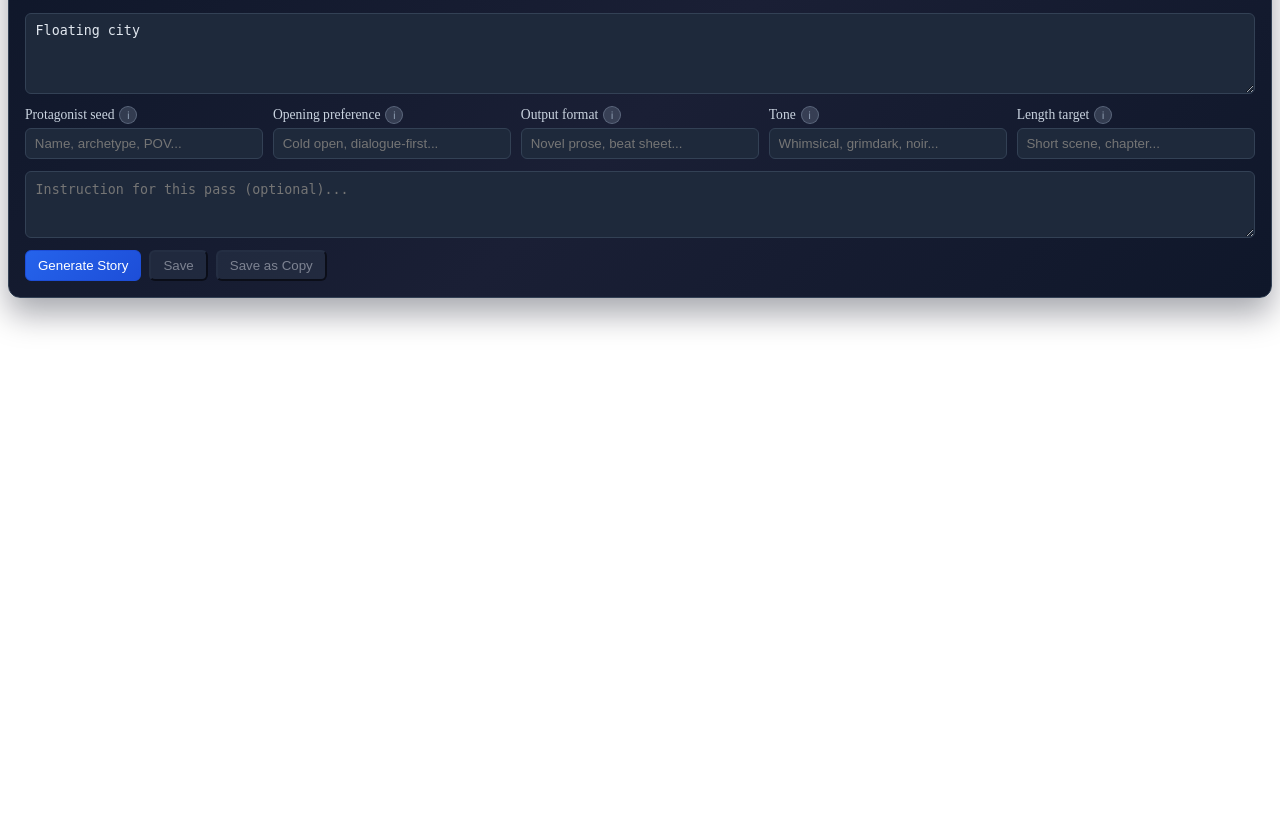
StoryPage › renders story artifact when API returns state.story_artifact
Click the button "Generate Story".
click(83, 265)  # box [25,250,141,281]
(page scrolled)
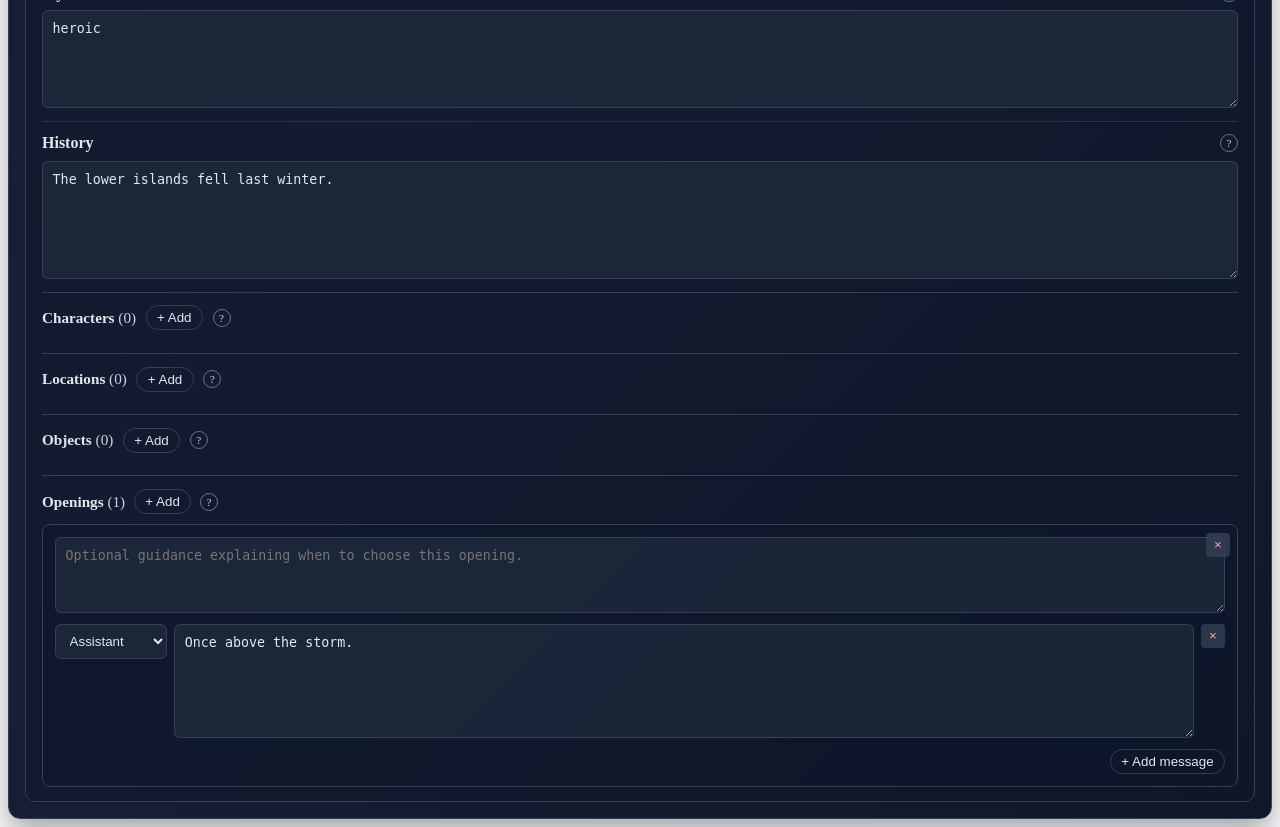
Expected: the text box named "Opening 1 message 1" holds "Once above the storm.", [174,624,1194,738]
